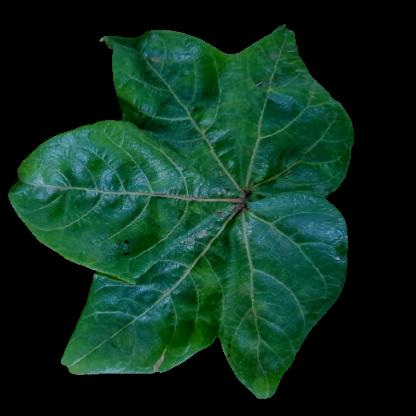healthy: (128, 71, 299, 210), (145, 220, 299, 344), (52, 130, 108, 254), (291, 213, 342, 284), (301, 111, 345, 177), (80, 315, 124, 373)
